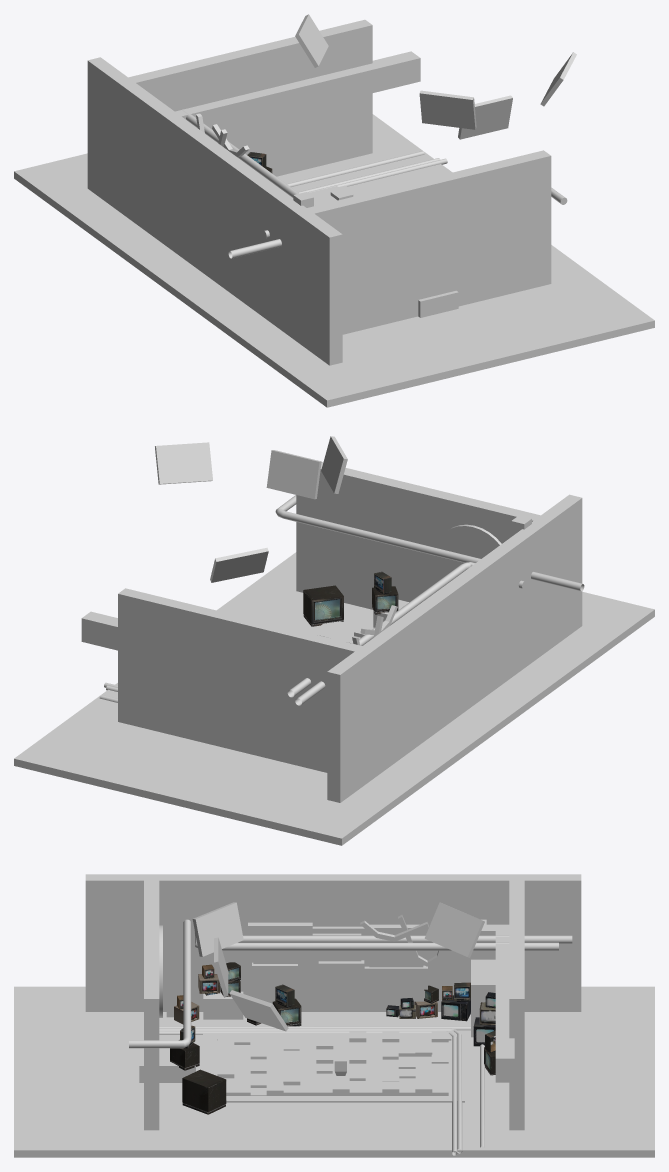
3 renders of one model, top to bottom at view 1: azimuth 30°, elevation 25°; view 2: azimuth 150°, elevation 25°; view 3: azimuth 270°, elevation 25°, orthographic. The views are drawn at different scales.
Visible parts, largest first — view 1: Cube.002, Cube.003, Cube, Cube.001, Cube.019, Cube.018, Cube.021, Cylinder.001, Cube.010, Cylinder.006, Cylinder.003, Cylinder.004; view 2: Cube.002, Cube.003, Cube, Cylinder.003, Cube.020, Cube.018, Cylinder, TVsss_MADE_BY_DAFTVID_.004, Cube.021, Cube.001, Cylinder.001, Cube.019; view 3: Cube.003, Cube, Cube.002, Cube.017, Cube.001, Cylinder.001, Cube.015, Cube.005, Cube.021, Cylinder.002, Cube.019, Cube.011 (+19 smaller).
Boxes of the visible parts, bbox=[...] form: Cube.002: bbox=[127, 19, 551, 334]; Cube.003: bbox=[14, 114, 654, 407]; Cube: bbox=[87, 57, 342, 365]; Cube.001: bbox=[175, 51, 420, 129]; Cube.019: bbox=[419, 90, 476, 129]; Cube.018: bbox=[458, 95, 512, 139]; Cube.021: bbox=[295, 14, 328, 67]; Cylinder.001: bbox=[182, 109, 315, 206]; Cube.010: bbox=[418, 290, 458, 317]; Cylinder.006: bbox=[287, 151, 424, 186]; Cylinder.003: bbox=[228, 187, 567, 258]; Cylinder.004: bbox=[307, 158, 447, 192]; Cube.002: bbox=[118, 462, 540, 772]; Cube.003: bbox=[14, 552, 654, 845]; Cube: bbox=[327, 494, 582, 802]; Cylinder.003: bbox=[275, 495, 584, 591]; Cube.020: bbox=[155, 442, 212, 484]; Cube.018: bbox=[266, 450, 321, 499]; Cylinder: bbox=[433, 524, 501, 580]; TVsss_MADE_BY_DAFTVID_.004: bbox=[303, 585, 343, 626]; Cube.021: bbox=[210, 547, 268, 582]; Cube.001: bbox=[81, 611, 117, 650]; Cylinder.001: bbox=[287, 562, 475, 697]; Cube.019: bbox=[321, 436, 347, 493]; Cube.003: bbox=[14, 986, 654, 1157]; Cube: bbox=[85, 874, 581, 1011]; Cube.002: bbox=[144, 879, 524, 1130]; Cube.017: bbox=[203, 1030, 464, 1102]; Cube.001: bbox=[477, 919, 514, 1082]; Cylinder.001: bbox=[194, 931, 558, 950]; Cube.015: bbox=[364, 965, 427, 1001]; Cube.005: bbox=[166, 874, 181, 1017]; Cube.021: bbox=[424, 902, 484, 957]; Cylinder.002: bbox=[238, 935, 572, 943]; Cube.019: bbox=[192, 902, 243, 956]; Cube.011: bbox=[248, 922, 312, 961].
Size of what is drawn, in the model's own units: 2296 by 1248 by 3217.
